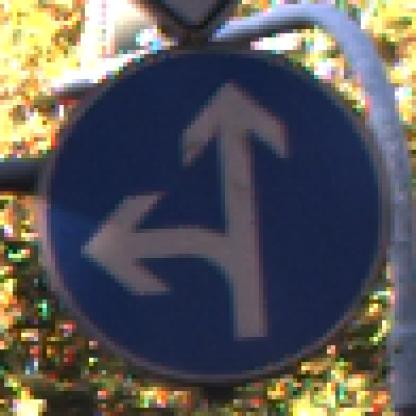Straight or Left: (35, 38, 383, 384)
